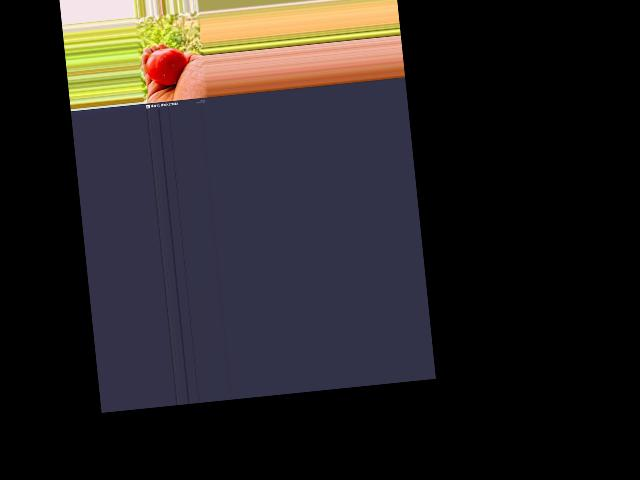tomato: (145, 46, 189, 87)
